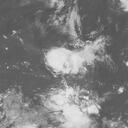cyclone: (45, 35, 107, 76)
